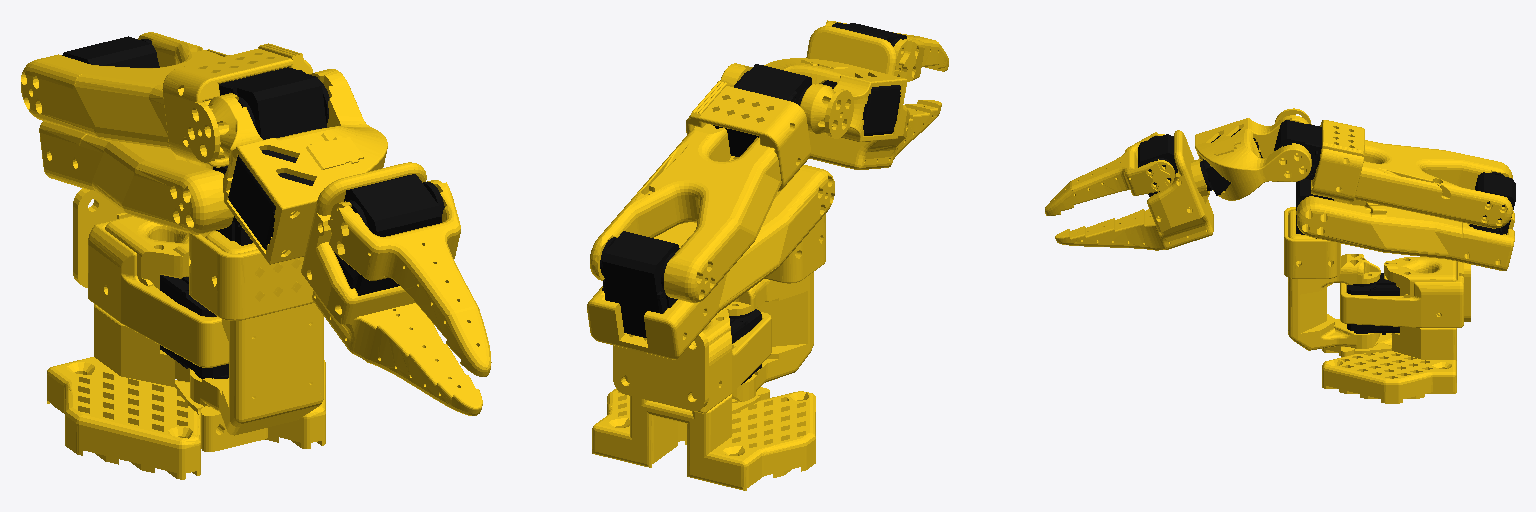
The robot description file, URDF, robot "so_arm100":
<?xml version='1.0' encoding='utf-8'?>
<robot name="so_arm100">
  
  <!-- Materials -->
  <material name="3d_printed">
    <color rgba="1.0 0.82 0.12 1.0"/>
  </material>
  <material name="sts3215">
    <color rgba="0.1 0.1 0.1 1.0"/>
  </material>

  <!-- Link base -->
  <link name="base">
    <inertial>
      <!-- Approximate inertial values -->
      <mass value="1.0"/>
      <origin xyz="0 0 0" rpy="0 0 0"/>
      <inertia ixx="0.01" ixy="0" ixz="0" iyy="0.01" iyz="0" izz="0.01"/>
    </inertial>
    <visual>
      <geometry>
        <mesh filename="assets/Base.stl"/>
      </geometry>
      <material name="3d_printed"/>
    </visual>
    <visual>
      <geometry>
        <mesh filename="assets/Base_Motor.stl"/>
      </geometry>
      <material name="sts3215"/>
    </visual>
    <collision>
      <geometry>
        <mesh filename="assets/Base.stl"/>
      </geometry>
    </collision>
  </link>

  <!-- Link shoulder -->
  <link name="shoulder">
    <inertial>
      <mass value="0.119226"/>
      <origin xyz="-9.07886e-05 0.0590972 0.031089" rpy="0 0 0"/>
      <inertia ixx="5.94278e-05" ixy="0" ixz="0" iyy="5.89975e-05" iyz="0" izz="3.13712e-05"/>
    </inertial>
    <visual>
      <geometry>
        <mesh filename="assets/Rotation_Pitch.stl"/>
      </geometry>
      <material name="3d_printed"/>
    </visual>
    <visual>
      <geometry>
        <mesh filename="assets/Rotation_Pitch_Motor.stl"/>
      </geometry>
      <material name="sts3215"/>
    </visual>
    <collision>
      <geometry>
        <mesh filename="assets/Rotation_Pitch.stl"/>
      </geometry>
    </collision>
  </link>

  <!-- Link upper_arm -->
  <link name="upper_arm">
    <inertial>
      <mass value="1.5"/>
      <origin xyz="-1.72052e-05 0.0701802 0.00310545" rpy="0 0 0"/>
      <inertia ixx="0.000213312" ixy="0" ixz="0" iyy="0.000167164" iyz="0" izz="7.01522e-05"/>
    </inertial>
    <visual>
      <geometry>
        <mesh filename="assets/Upper_Arm.stl"/>
      </geometry>
      <material name="3d_printed"/>
    </visual>
    <visual>
      <geometry>
        <mesh filename="assets/Upper_Arm_Motor.stl"/>
      </geometry>
      <material name="sts3215"/>
    </visual>
    <collision>
      <geometry>
        <mesh filename="assets/Upper_Arm.stl"/>
      </geometry>
    </collision>
  </link>

  <!-- Link lower_arm -->
  <link name="lower_arm">
    <inertial>
      <mass value="1.0"/>
      <origin xyz="-0.00339604 0.00137796 0.0768007" rpy="0 0 0"/>
      <inertia ixx="0.000138803" ixy="0" ixz="0" iyy="0.000107748" iyz="0" izz="4.84242e-05"/>
    </inertial>
    <visual>
      <geometry>
        <mesh filename="assets/Lower_Arm.stl"/>
      </geometry>
      <material name="3d_printed"/>
    </visual>
    <visual>
      <geometry>
        <mesh filename="assets/Lower_Arm_Motor.stl"/>
      </geometry>
      <material name="sts3215"/>
    </visual>
    <collision>
      <geometry>
        <mesh filename="assets/Lower_Arm.stl"/>
      </geometry>
    </collision>
  </link>

  <!-- Link wrist -->
  <link name="wrist">
    <inertial>
      <mass value="0.8"/>
      <origin xyz="-0.00852653 -0.0352279 -2.34622e-05" rpy="0 0 0"/>
      <inertia ixx="3.45403e-05" ixy="0" ixz="0" iyy="2.39041e-05" iyz="0" izz="1.94704e-05"/>
    </inertial>
    <visual>
      <geometry>
        <mesh filename="assets/Wrist_Pitch_Roll.stl"/>
      </geometry>
      <material name="3d_printed"/>
    </visual>
    <visual>
      <geometry>
        <mesh filename="assets/Wrist_Pitch_Roll_Motor.stl"/>
      </geometry>
      <material name="sts3215"/>
    </visual>
    <collision>
      <geometry>
        <mesh filename="assets/Wrist_Pitch_Roll.stl"/>
      </geometry>
    </collision>
  </link>

  <!-- Link gripper -->
  <link name="gripper">
    <inertial>
      <mass value="0.5"/>
      <origin xyz="0.00552377 -0.0280167 0.000483583" rpy="0 0 0"/>
      <inertia ixx="0.001" ixy="0" ixz="0" iyy="0.001" iyz="0" izz="0.001"/>
    </inertial>
    <visual>
      <geometry>
        <mesh filename="assets/Fixed_Jaw.stl"/>
      </geometry>
      <material name="3d_printed"/>
    </visual>
    <visual>
      <geometry>
        <mesh filename="assets/Fixed_Jaw_Motor.stl"/>
      </geometry>
      <material name="sts3215"/>
    </visual>
    <collision>
      <geometry>
        <mesh filename="assets/Fixed_Jaw.stl"/>
      </geometry>
    </collision>
  </link>

  <!-- Link jaw -->
  <link name="jaw">
    <inertial>
      <mass value="0.5"/>
      <origin xyz="-0.00161745 -0.0303473 0.000449646" rpy="0 0 0"/>
      <inertia ixx="0.001" ixy="0" ixz="0" iyy="0.001" iyz="0" izz="0.001"/>
    </inertial>
    <visual>
      <geometry>
        <mesh filename="assets/Moving_Jaw.stl"/>
      </geometry>
      <material name="3d_printed"/>
    </visual>
    <collision>
      <geometry>
        <mesh filename="assets/Moving_Jaw.stl"/>
      </geometry>
    </collision>
  </link>


  <!-- Joint from base to shoulder -->
  <joint name="shoulder_pan" type="revolute">
    <parent link="base"/>
    <child link="shoulder"/>
    <origin xyz="0 -0.0452 0.0165" rpy="1.57079 0 0"/>
    <axis xyz="0 1 0"/>
    <limit lower="-2" upper="2" effort="35" velocity="1"/>
  </joint>

  <transmission name="shoulder_pan_trans">
    <type>transmission_interface/SimpleTransmission</type>
    <joint name="shoulder_pan">
      <hardwareInterface>hardware_interface/PositionJointInterface</hardwareInterface>
    </joint>
    <actuator name="motor1">
      <hardwareInterface>hardware_interface/PositionJointInterface</hardwareInterface>
      <mechanicalReduction>1</mechanicalReduction>
    </actuator>
  </transmission>

  <!-- Joint from shoulder to upper_arm -->
  <joint name="shoulder_lift" type="revolute">
    <parent link="shoulder"/>
    <child link="upper_arm"/>
    <origin xyz="0 0.1025 0.0306" rpy="-1.8 0 0"/>
    <axis xyz="1 0 0"/>
    <limit lower="0" upper="3.5" effort="35" velocity="1"/>
  </joint>

  <transmission name="shoulder_lift_trans">
    <type>transmission_interface/SimpleTransmission</type>
    <joint name="shoulder_lift">
      <hardwareInterface>hardware_interface/PositionJointInterface</hardwareInterface>
    </joint>
    <actuator name="motor2">
      <hardwareInterface>hardware_interface/PositionJointInterface</hardwareInterface>
      <mechanicalReduction>1</mechanicalReduction>
    </actuator>
  </transmission>

  <!-- Joint from upper_arm to lower_arm -->
  <joint name="elbow_flex" type="revolute">
    <parent link="upper_arm"/>
    <child link="lower_arm"/>
    <origin xyz="0 0.11257 0.028" rpy="1.57079 0 0"/>
    <axis xyz="1 0 0"/>
    <limit lower="-3.14158" upper="0" effort="35" velocity="1"/>
  </joint>

  <transmission name="elbow_flex_trans">
    <type>transmission_interface/SimpleTransmission</type>
    <joint name="elbow_flex">
      <hardwareInterface>hardware_interface/PositionJointInterface</hardwareInterface>
    </joint>
    <actuator name="motor3">
      <hardwareInterface>hardware_interface/PositionJointInterface</hardwareInterface>
      <mechanicalReduction>1</mechanicalReduction>
    </actuator>
  </transmission>

  <!-- Joint from lower_arm to wrist -->
  <joint name="wrist_flex" type="revolute">
    <parent link="lower_arm"/>
    <child link="wrist"/>
    <origin xyz="0 0.0052 0.1349" rpy="-1 0 0"/>
    <axis xyz="1 0 0"/>
    <limit lower="-2.5" upper="1.2" effort="35" velocity="1"/>
  </joint>

  <transmission name="wrist_flex_trans">
    <type>transmission_interface/SimpleTransmission</type>
    <joint name="wrist_flex">
      <hardwareInterface>hardware_interface/PositionJointInterface</hardwareInterface>
    </joint>
    <actuator name="motor4">
      <hardwareInterface>hardware_interface/PositionJointInterface</hardwareInterface>
      <mechanicalReduction>1</mechanicalReduction>
    </actuator>
  </transmission>

  <!-- Joint from wrist to gripper -->
  <joint name="wrist_roll" type="revolute">
    <parent link="wrist"/>
    <child link="gripper"/>
    <origin xyz="0 -0.0601 0" rpy="0 1.57079 0"/>
    <axis xyz="0 1 0"/>
    <limit lower="-3.14158" upper="3.14158" effort="35" velocity="1"/>
  </joint>

  <transmission name="wrist_roll_trans">
    <type>transmission_interface/SimpleTransmission</type>
    <joint name="wrist_roll">
      <hardwareInterface>hardware_interface/PositionJointInterface</hardwareInterface>
    </joint>
    <actuator name="motor5">
      <hardwareInterface>hardware_interface/PositionJointInterface</hardwareInterface>
      <mechanicalReduction>1</mechanicalReduction>
    </actuator>
  </transmission>

  <!-- Joint from gripper to jaw -->
  <joint name="gripper" type="revolute">
    <parent link="gripper"/>
    <child link="jaw"/>
    <origin xyz="-0.0202 -0.0244 0" rpy="0 3.14158 0"/>
    <axis xyz="0 0 1"/>
    <limit lower="-0.2" upper="2.0" effort="35" velocity="1"/>
  </joint>

  <transmission name="gripper_trans">
    <type>transmission_interface/SimpleTransmission</type>
    <joint name="gripper">
      <hardwareInterface>hardware_interface/PositionJointInterface</hardwareInterface>
    </joint>
    <actuator name="motor6">
      <hardwareInterface>hardware_interface/PositionJointInterface</hardwareInterface>
      <mechanicalReduction>1</mechanicalReduction>
    </actuator>
  </transmission>

</robot> 

--- Facts derived from the render (not from the file) ---
Views: 3 orthographic renders of the robot side by side, from view 1: azimuth 30°, elevation 25°; view 2: azimuth 150°, elevation 25°; view 3: azimuth 270°, elevation 25°.
Robot: so_arm100 — 7 links, 6 joints (6 revolute); root link base; default pose: all joints at 0.
Visible links, largest first — view 1: base, lower_arm, shoulder, gripper, wrist, upper_arm, jaw; view 2: base, lower_arm, upper_arm, wrist, shoulder, gripper, jaw; view 3: base, lower_arm, upper_arm, gripper, shoulder, wrist, jaw.
Boxes of the visible links, bbox=[...] form: base: bbox=[47, 188, 325, 479]; lower_arm: bbox=[21, 32, 329, 167]; shoulder: bbox=[189, 166, 323, 435]; gripper: bbox=[301, 162, 482, 415]; wrist: bbox=[184, 69, 387, 264]; upper_arm: bbox=[39, 36, 233, 234]; jaw: bbox=[328, 180, 491, 376]; base: bbox=[592, 308, 815, 490]; lower_arm: bbox=[590, 64, 811, 302]; upper_arm: bbox=[587, 165, 834, 359]; wrist: bbox=[720, 58, 907, 141]; shoulder: bbox=[726, 214, 825, 402]; gripper: bbox=[806, 22, 941, 169]; jaw: bbox=[825, 20, 948, 81]; base: bbox=[1322, 257, 1470, 403]; lower_arm: bbox=[1274, 120, 1512, 228]; upper_arm: bbox=[1296, 172, 1515, 270]; gripper: bbox=[1055, 130, 1213, 250]; shoulder: bbox=[1284, 179, 1380, 350]; wrist: bbox=[1195, 108, 1311, 200]; jaw: bbox=[1045, 132, 1174, 215].
Size in the robot's own frame: 0.1109 by 0.3046 by 0.1701 metres.
Meshes: 13 distinct files referenced, 13 mesh visuals loaded (13 binary STL).
